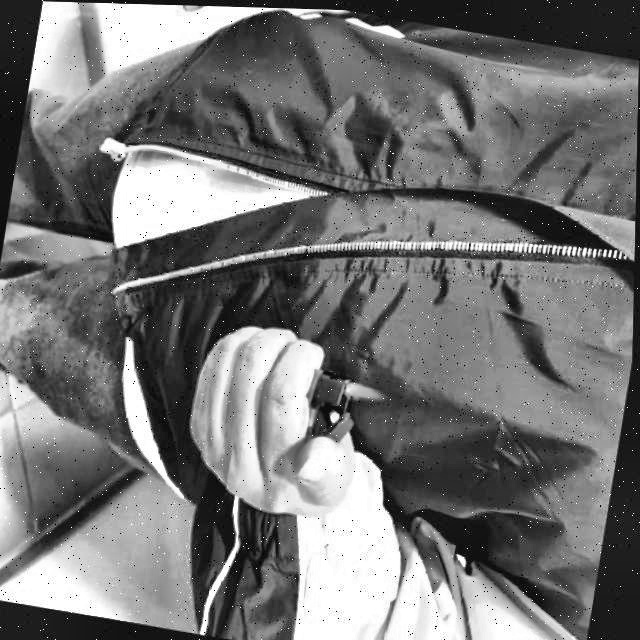Fire: (341, 377, 390, 403)
